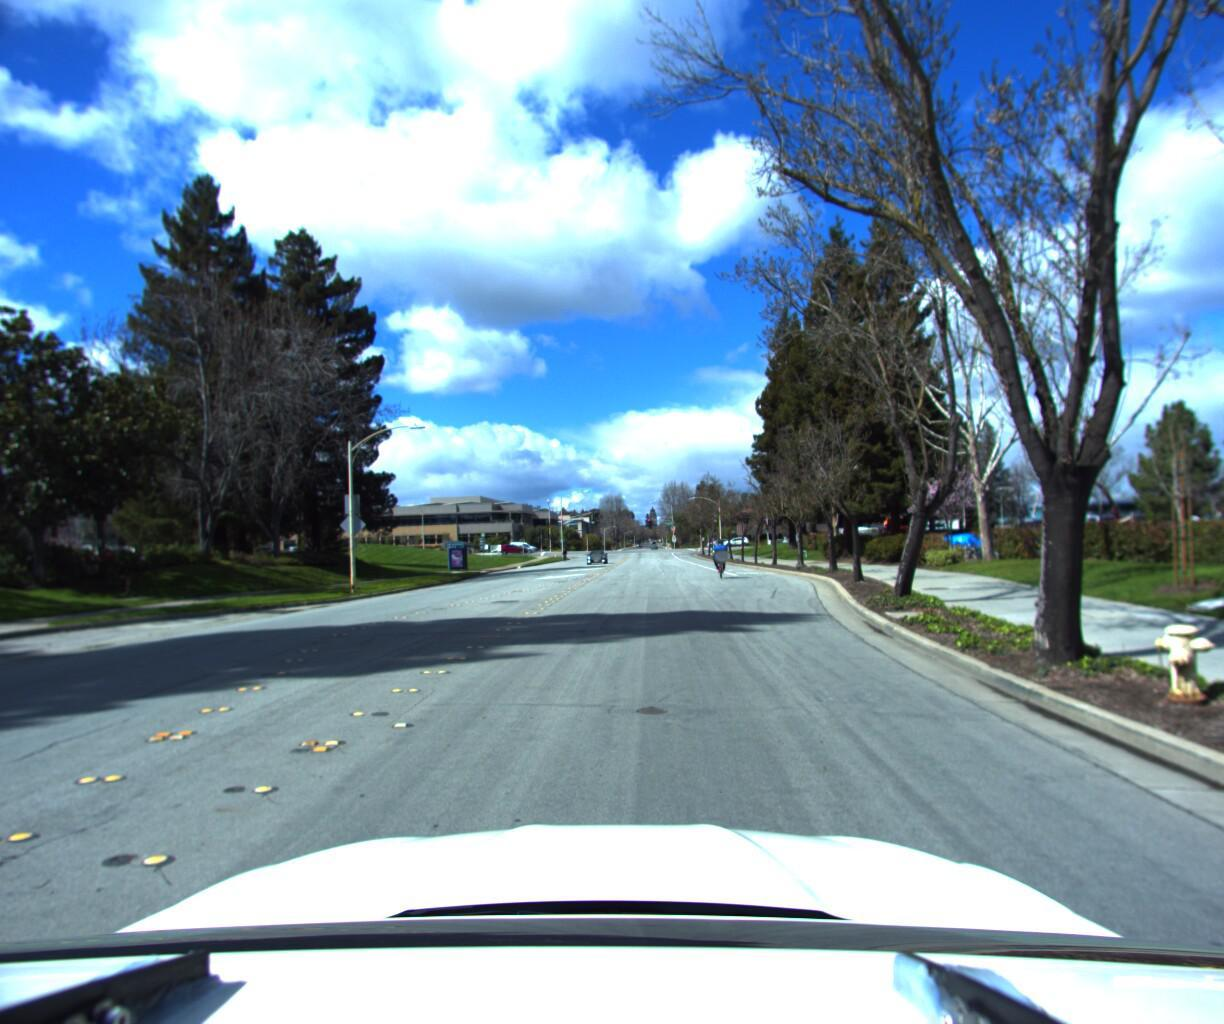bicycle: (707, 537, 728, 580)
car: (583, 549, 606, 565)
